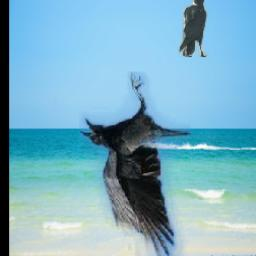Crow: (79, 73, 191, 256), (179, 0, 210, 58)
